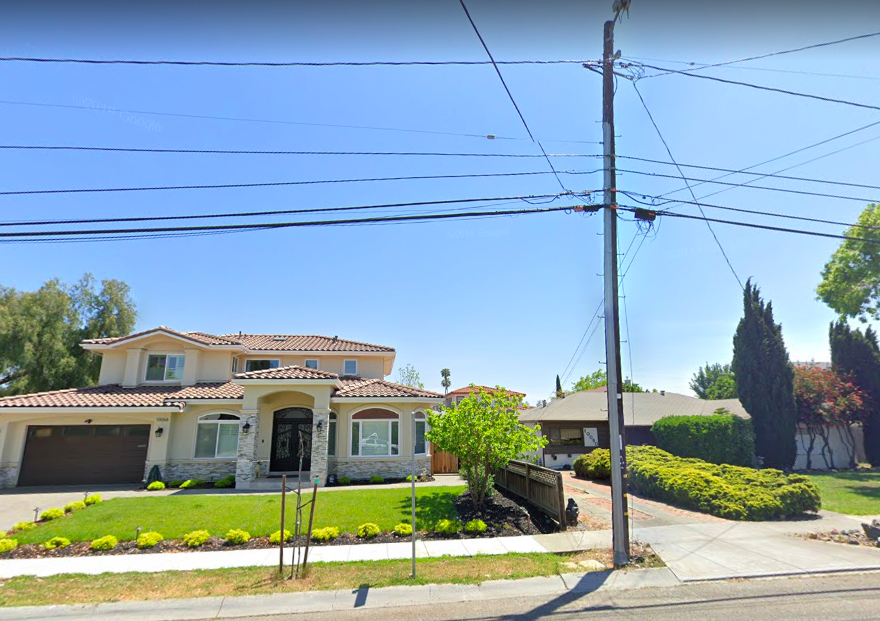utility_pole: (571, 15, 661, 235)
